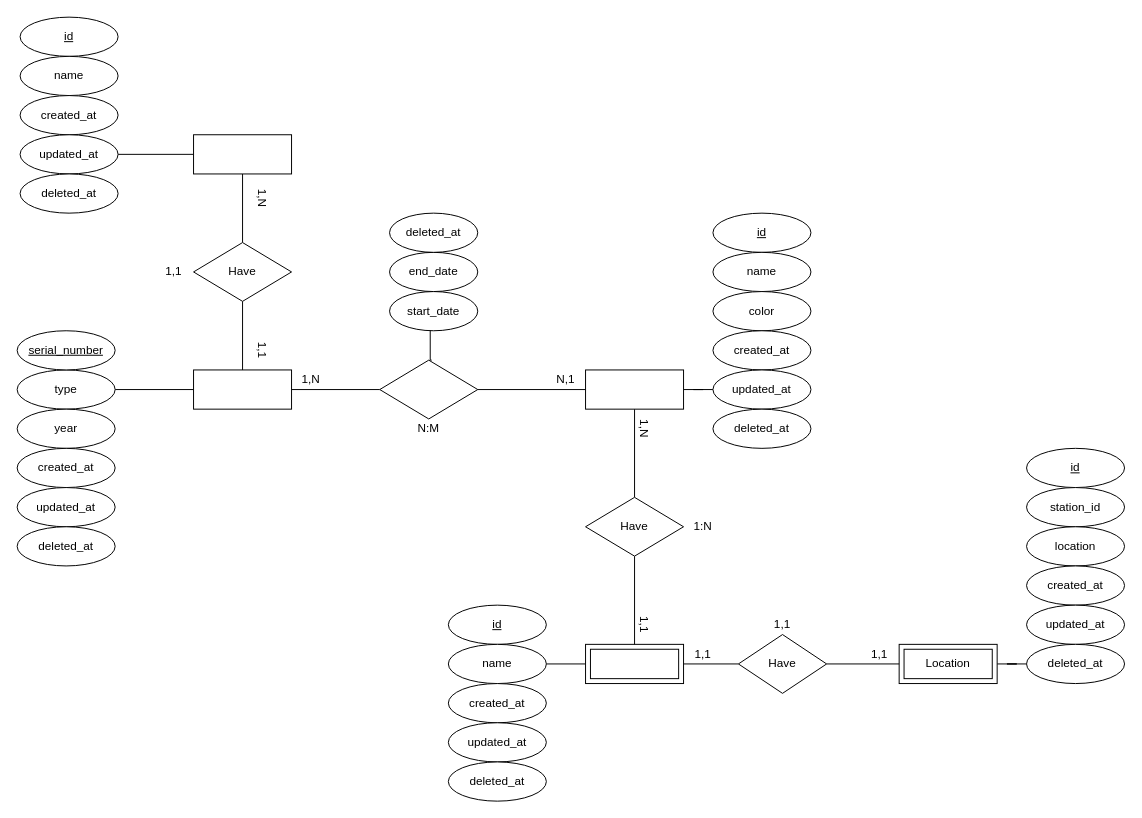
This 1142x818 diagram has some shape labels left out. The centre of each missing label's shape, as x and y in pixels:
"Lines" goes at point 634,389.
"Runs" goes at point 428,389.
"Station" goes at point 634,663.
"Train Types" goes at point 242,154.
"Trains" goes at point 242,389.
